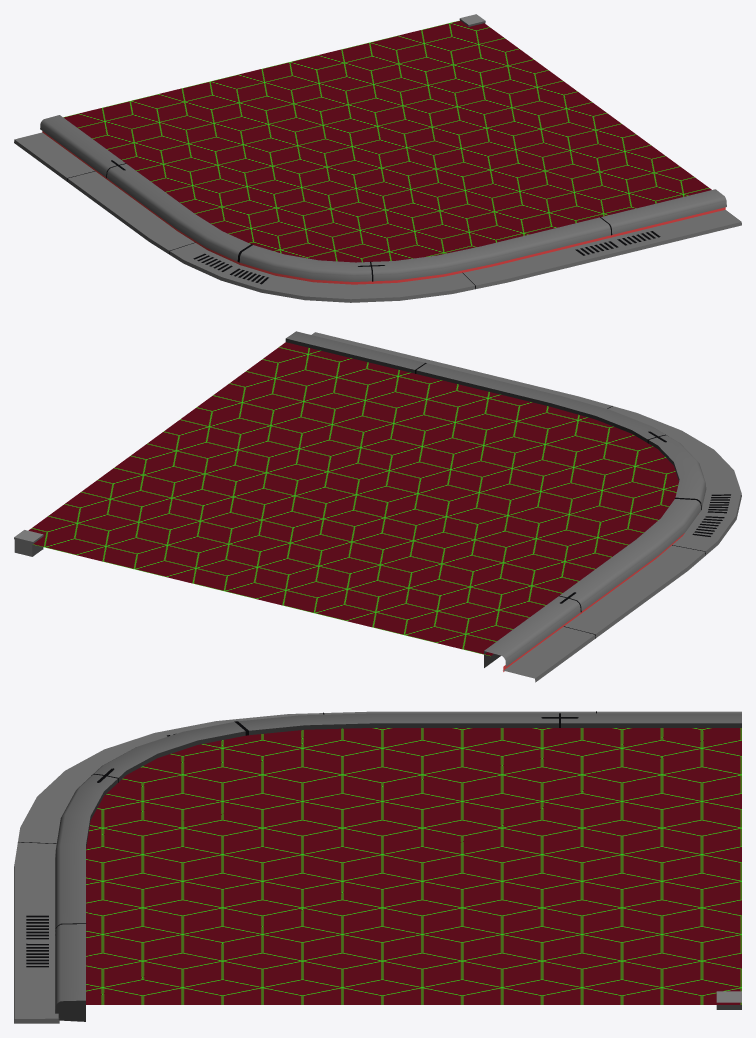
File: Floor_add_02_Conner_a.fbx
The picture shows the model from 3 angles, top to bottom: view 1: azimuth 30°, elevation 25°; view 2: azimuth 150°, elevation 25°; view 3: azimuth 270°, elevation 25°; orthographic projection. The views are drawn at different scales.
Visible parts, largest first — view 1: Floor_add_02_Conner_a; view 2: Floor_add_02_Conner_a; view 3: Floor_add_02_Conner_a.
Part boxes in pixels (left/top/right/bottom): Floor_add_02_Conner_a: left=14, top=14, right=741, bottom=302; Floor_add_02_Conner_a: left=14, top=331, right=741, bottom=682; Floor_add_02_Conner_a: left=14, top=711, right=741, bottom=1023.
Bounding box in the file's own units: 4.01 × 0.142 × 4.
